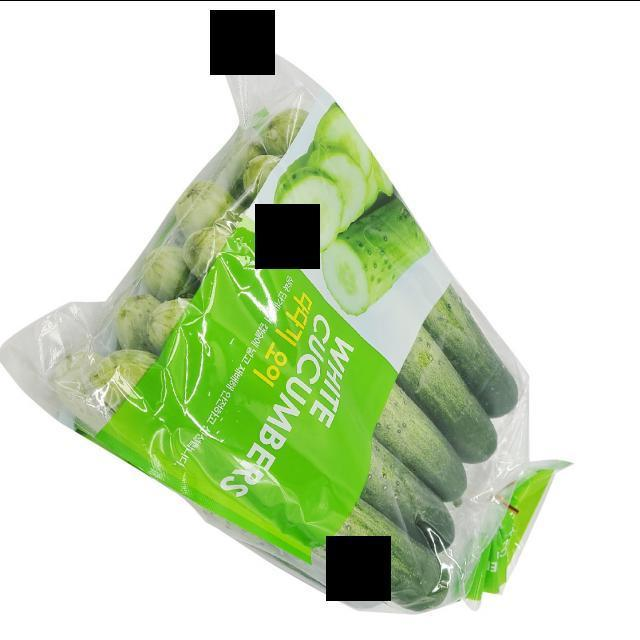cucumber: (24, 68, 558, 615)
